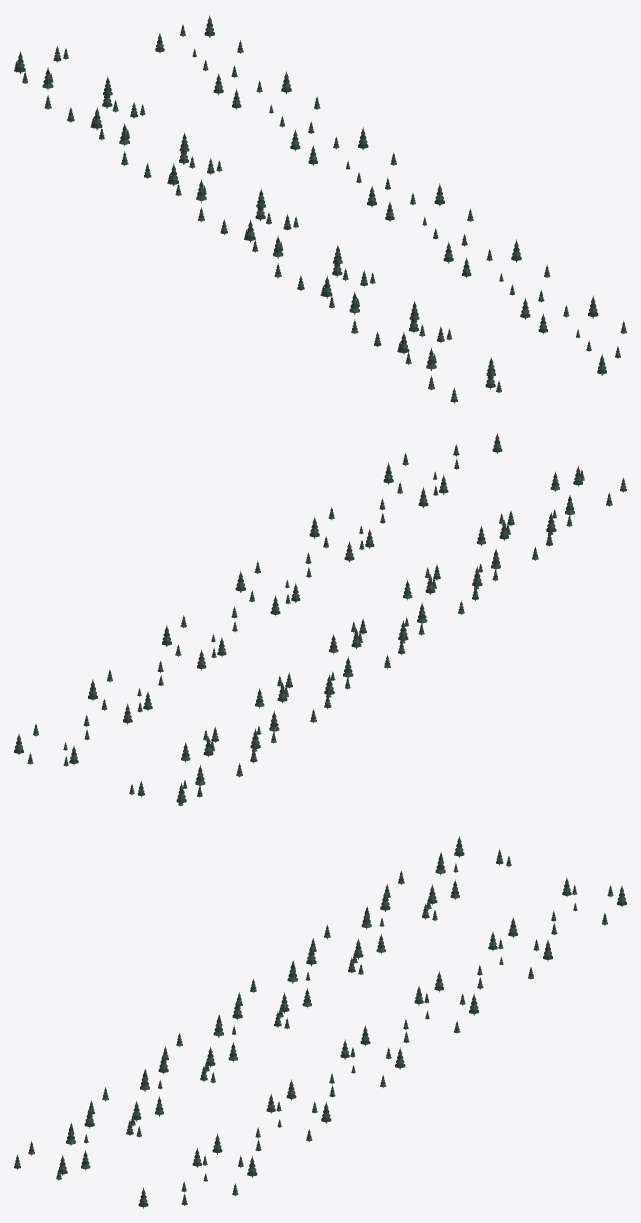
The model's file is TreesLoop.obj.
The picture shows the model from 3 angles, top to bottom: view 1: azimuth 30°, elevation 25°; view 2: azimuth 150°, elevation 25°; view 3: azimuth 330°, elevation 25°; orthographic projection. The views are drawn at different scales.
Visible parts, largest first — view 1: TreesLoop; view 2: TreesLoop; view 3: TreesLoop.
Part boxes in pixels (left/top/right/bottom): TreesLoop: left=14, top=15, right=626, bottom=403; TreesLoop: left=14, top=433, right=626, bottom=806; TreesLoop: left=14, top=836, right=626, bottom=1208.
Size of the model in its own units: 151 by 16.34 by 578.
Materials: 1 (1 with a texture image).
